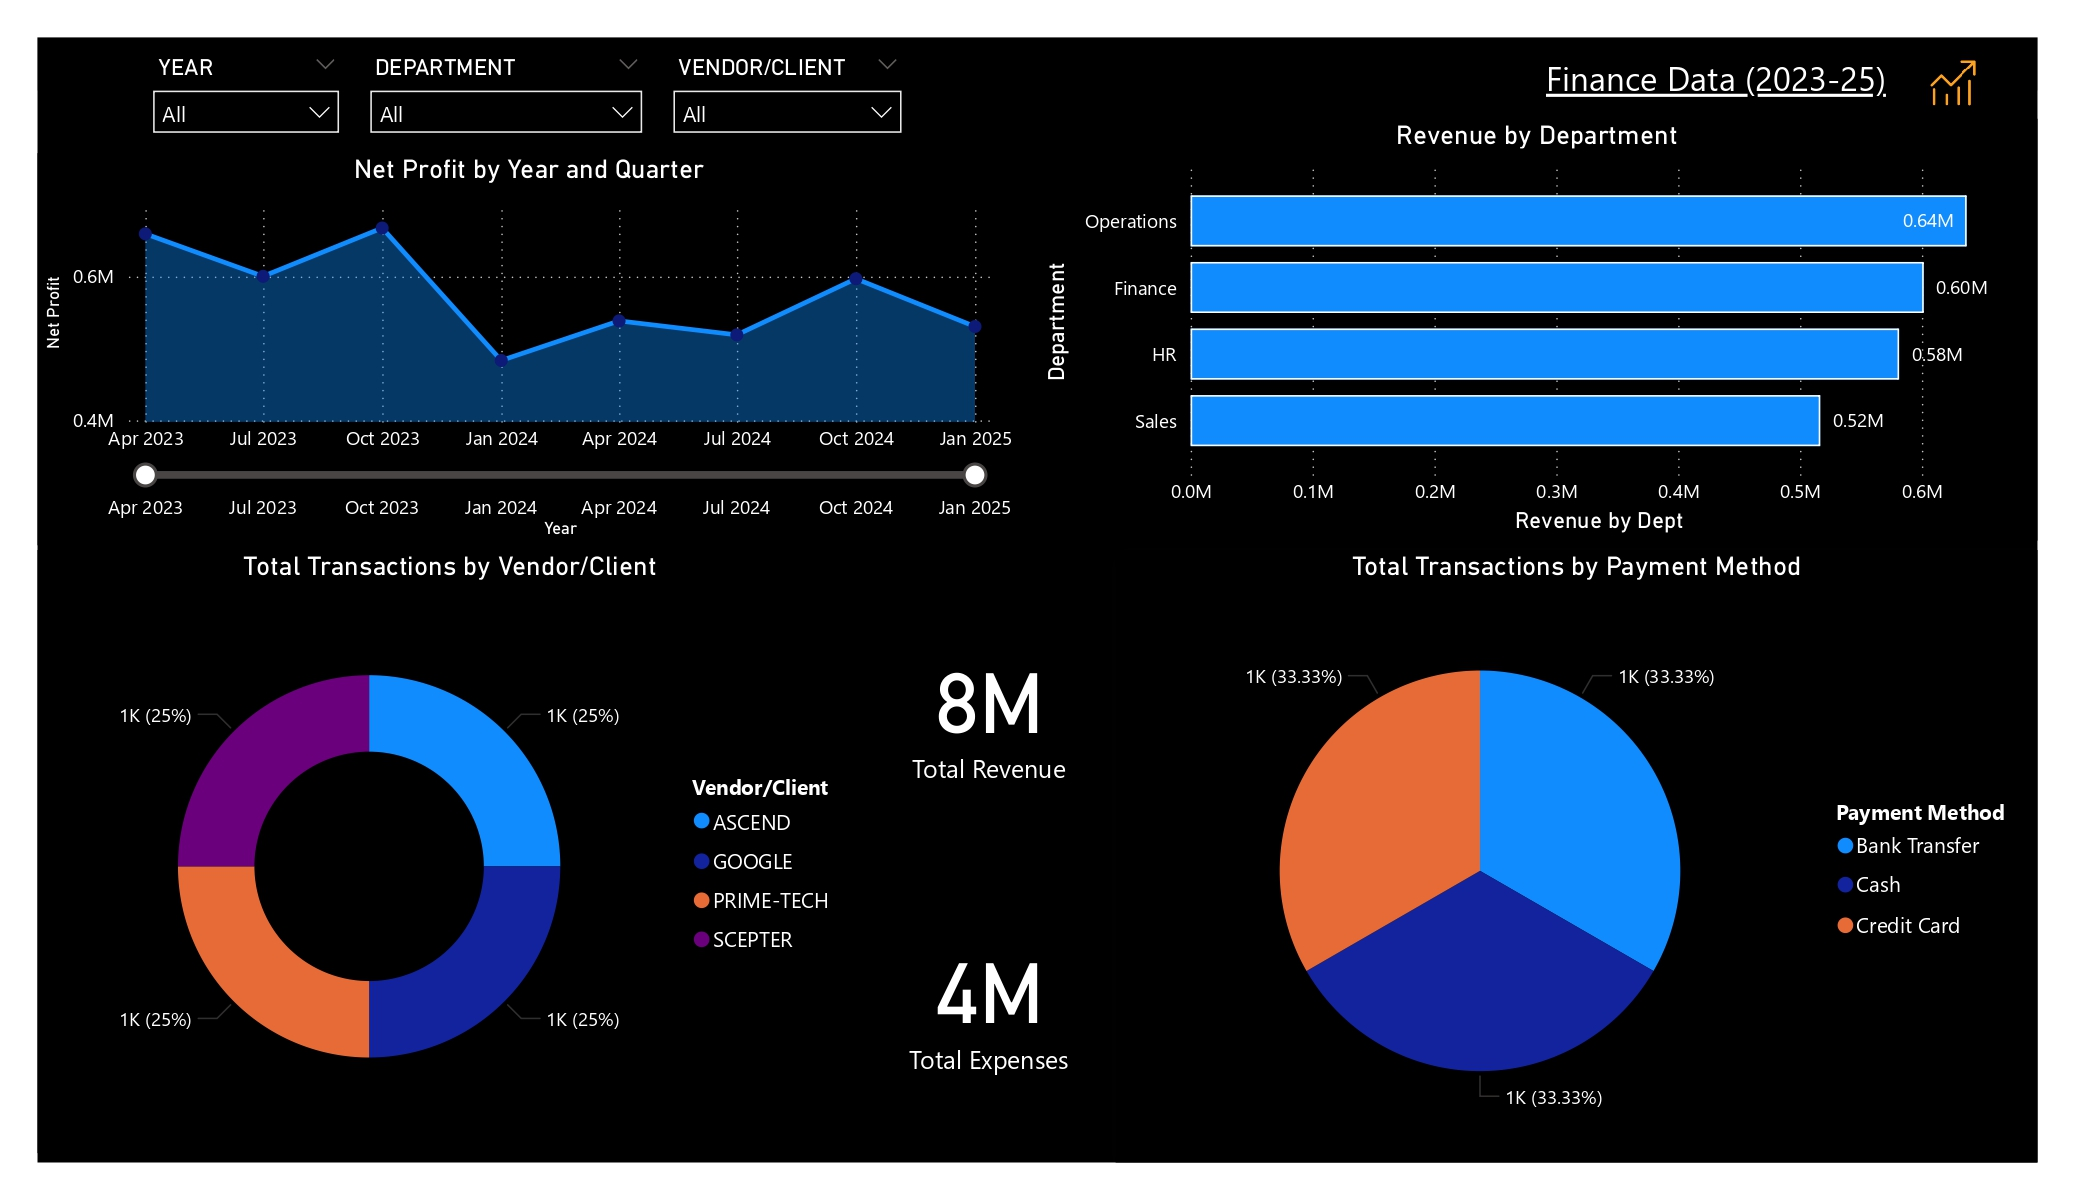

The dashboard page shown, as its layout file describes it:
{"tool":"powerbi","page":{"name":"Page 2","canvas":[1280,720],"ordinal":1},"visuals":[{"type":"lineChart","fields":{"Y":["Corporate Finance Data.Net Profit"],"Category":["Corporate Finance Data.Date.Variation.Date Hierarchy.Year","Corporate Finance Data.Date.Variation.Date Hierarchy.Quarter"]},"box":[0,73.7,629.3,250.9],"z":0},{"type":"barChart","title":"Revenue by Department","fields":{"Category":["Corporate Finance Data.Department"],"Y":["Corporate Finance Data.Revenue by Dept"]},"box":[639.2,52.4,640.6,269.3],"z":1000},{"type":"donutChart","fields":{"Y":["Corporate Finance Data.Total Transactions"],"Category":["Corporate Finance Data.Vendor/Client"]},"box":[0,328.3,528.5,385.9],"z":2000},{"type":"pieChart","fields":{"Category":["Corporate Finance Data.Payment Method"],"Y":["Corporate Finance Data.Total Transactions"]},"box":[689.6,328.3,590.4,391.7],"z":3000},{"type":"card","fields":{"Values":["Corporate Finance Data.Total Revenue"]},"box":[538.6,340.2,140.3,178.6],"z":4000},{"type":"card","fields":{"Values":["Corporate Finance Data.Total Expenses"]},"box":[538.6,528.7,140.3,172.9],"z":5000},{"type":"slicer","fields":{"Values":["Corporate Finance Data.Date.Variation.Date Hierarchy.Year","Corporate Finance Data.Date.Variation.Date Hierarchy.Quarter","Corporate Finance Data.Date.Variation.Date Hierarchy.Month","Corporate Finance Data.Date.Variation.Date Hierarchy.Day"]},"box":[63.8,5.7,138.9,68],"z":6000},{"type":"slicer","fields":{"Values":["Corporate Finance Data.Department"]},"box":[202.7,5.7,194.2,68],"z":7000},{"type":"slicer","fields":{"Values":["Corporate Finance Data.Vendor/Client"]},"box":[396.9,5.7,165.8,68],"z":8000},{"type":"textbox","box":[938.3,5.7,249.4,46.8],"z":9000},{"type":"image","box":[1187.7,5.7,75.1,46.8],"z":9001}]}

Visuals, with their boxes in screenshot pixels (x1, y1, x2, y2):
lineChart - Corporate Finance Data.Net Profit x Corporate Finance Data.Date.Variation.Date Hierarchy.Year: BBox(38, 153, 1021, 545)
"Revenue by Department" barChart: BBox(1036, 119, 2037, 540)
donutChart - Corporate Finance Data.Total Transactions x Corporate Finance Data.Vendor/Client: BBox(38, 550, 863, 1153)
pieChart - Corporate Finance Data.Payment Method x Corporate Finance Data.Total Transactions: BBox(1115, 550, 2038, 1162)
card - Corporate Finance Data.Total Revenue: BBox(879, 569, 1098, 848)
card - Corporate Finance Data.Total Expenses: BBox(879, 864, 1098, 1134)
slicer - Corporate Finance Data.Date.Variation.Date Hierarchy.Year x Corporate Finance Data.Date.Variation.Date Hierarchy.Quarter: BBox(137, 46, 354, 153)
slicer - Corporate Finance Data.Department: BBox(354, 46, 658, 153)
slicer - Corporate Finance Data.Vendor/Client: BBox(658, 46, 917, 153)
textbox: BBox(1504, 46, 1893, 120)
image: BBox(1893, 46, 2011, 120)
